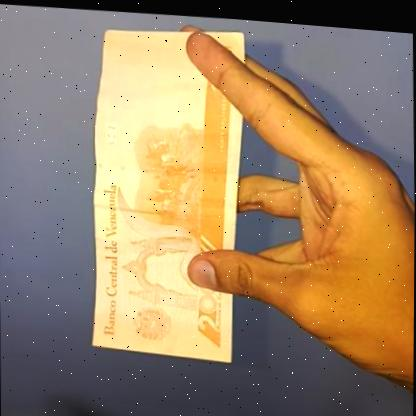twenty-back-vef: (85, 22, 250, 363)
